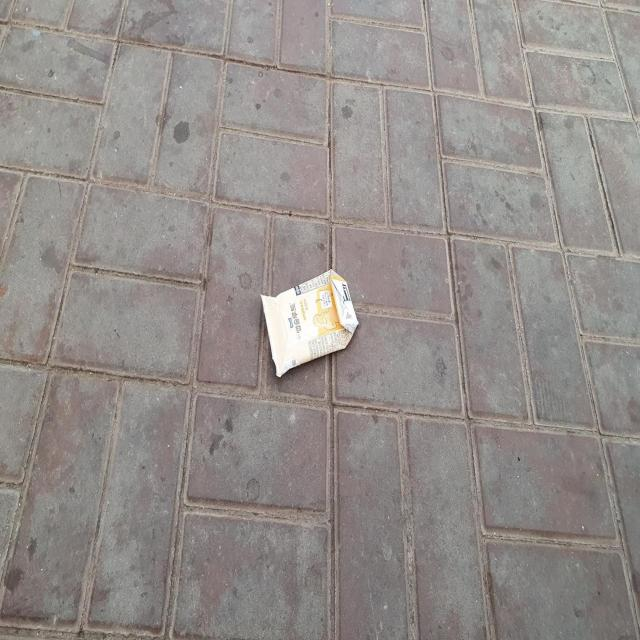paperpack: (262, 269, 358, 377)
